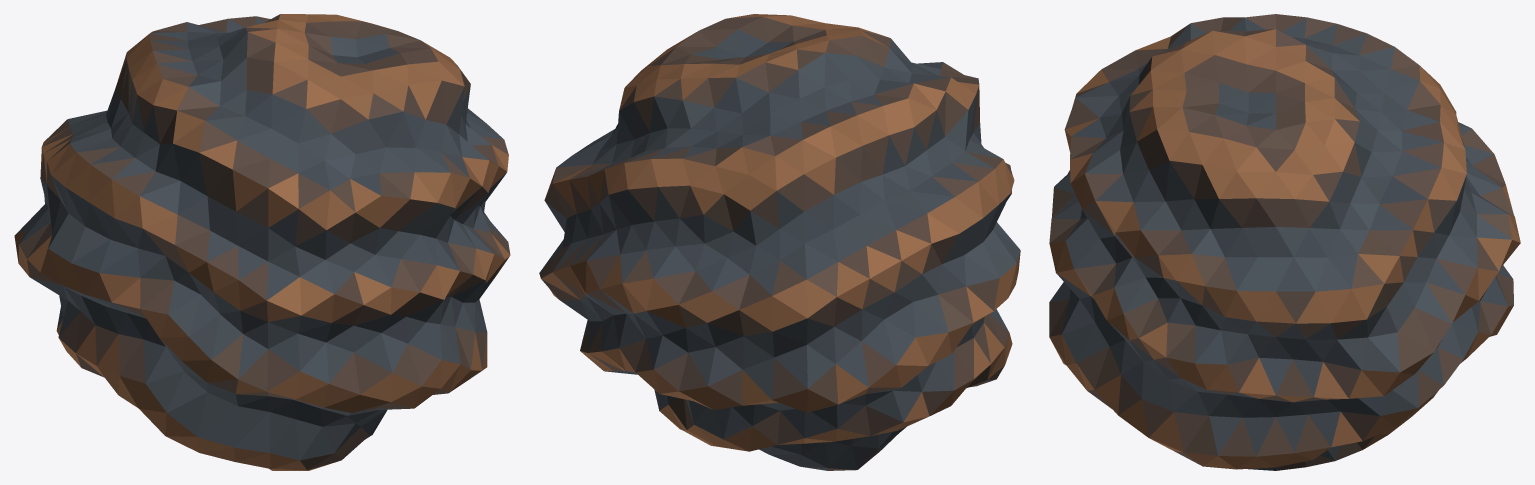
File: asteroid-iron.glb
The picture shows the model from 3 angles, left to right: view 1: azimuth 30°, elevation 25°; view 2: azimuth 150°, elevation 25°; view 3: azimuth 270°, elevation 25°; orthographic projection. The views are drawn at different scales.
Visible parts, largest first — view 1: Banded ironstone; view 2: Banded ironstone; view 3: Banded ironstone.
Boxes of the visible parts, x1,y1,x2,y2 form: Banded ironstone: (14, 14, 510, 470); Banded ironstone: (539, 14, 1020, 470); Banded ironstone: (1049, 14, 1520, 470).
Size of the model in its own units: 1.92 by 1.72 by 1.81.
